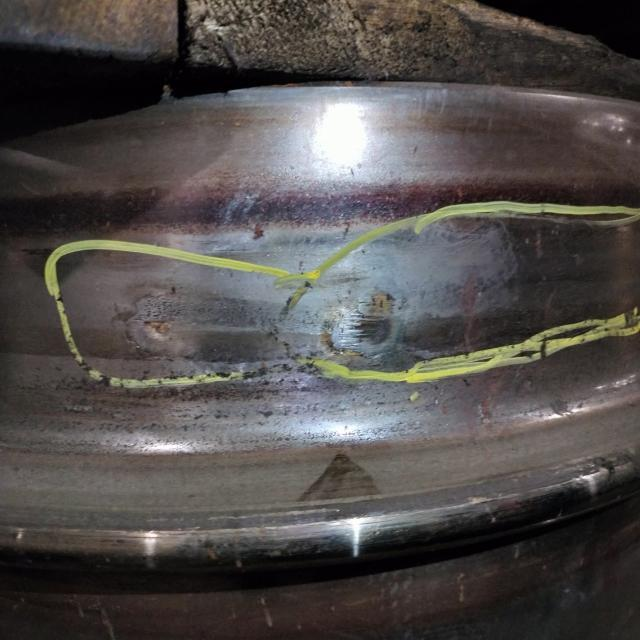Rollerpile: (125, 284, 399, 350)
